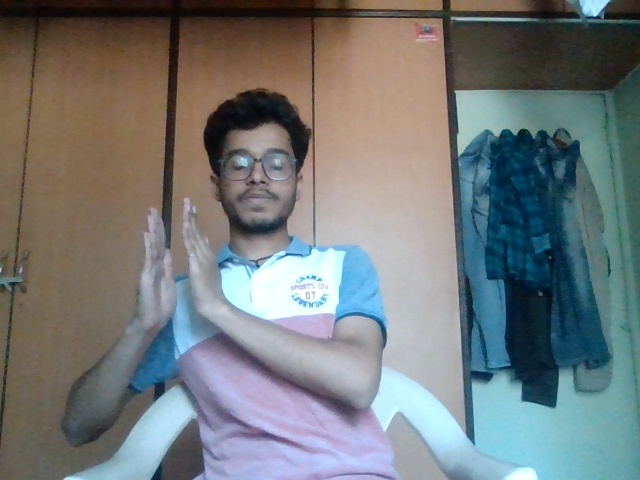morning: (120, 184, 243, 348)
